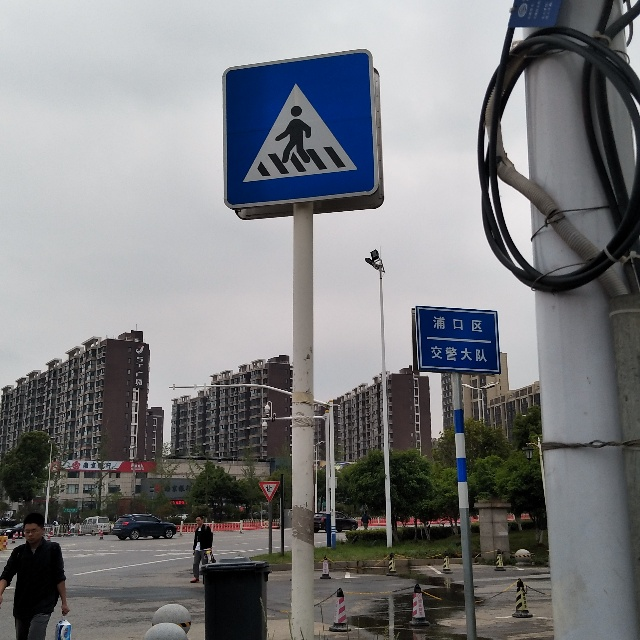crosswalk: (238, 68, 360, 198)
